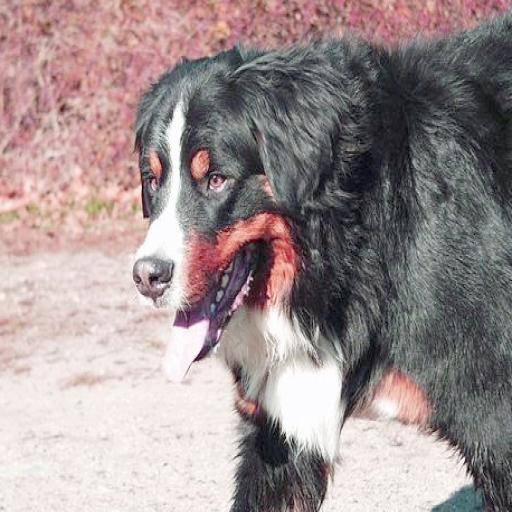dog_face: (115, 52, 319, 333)
